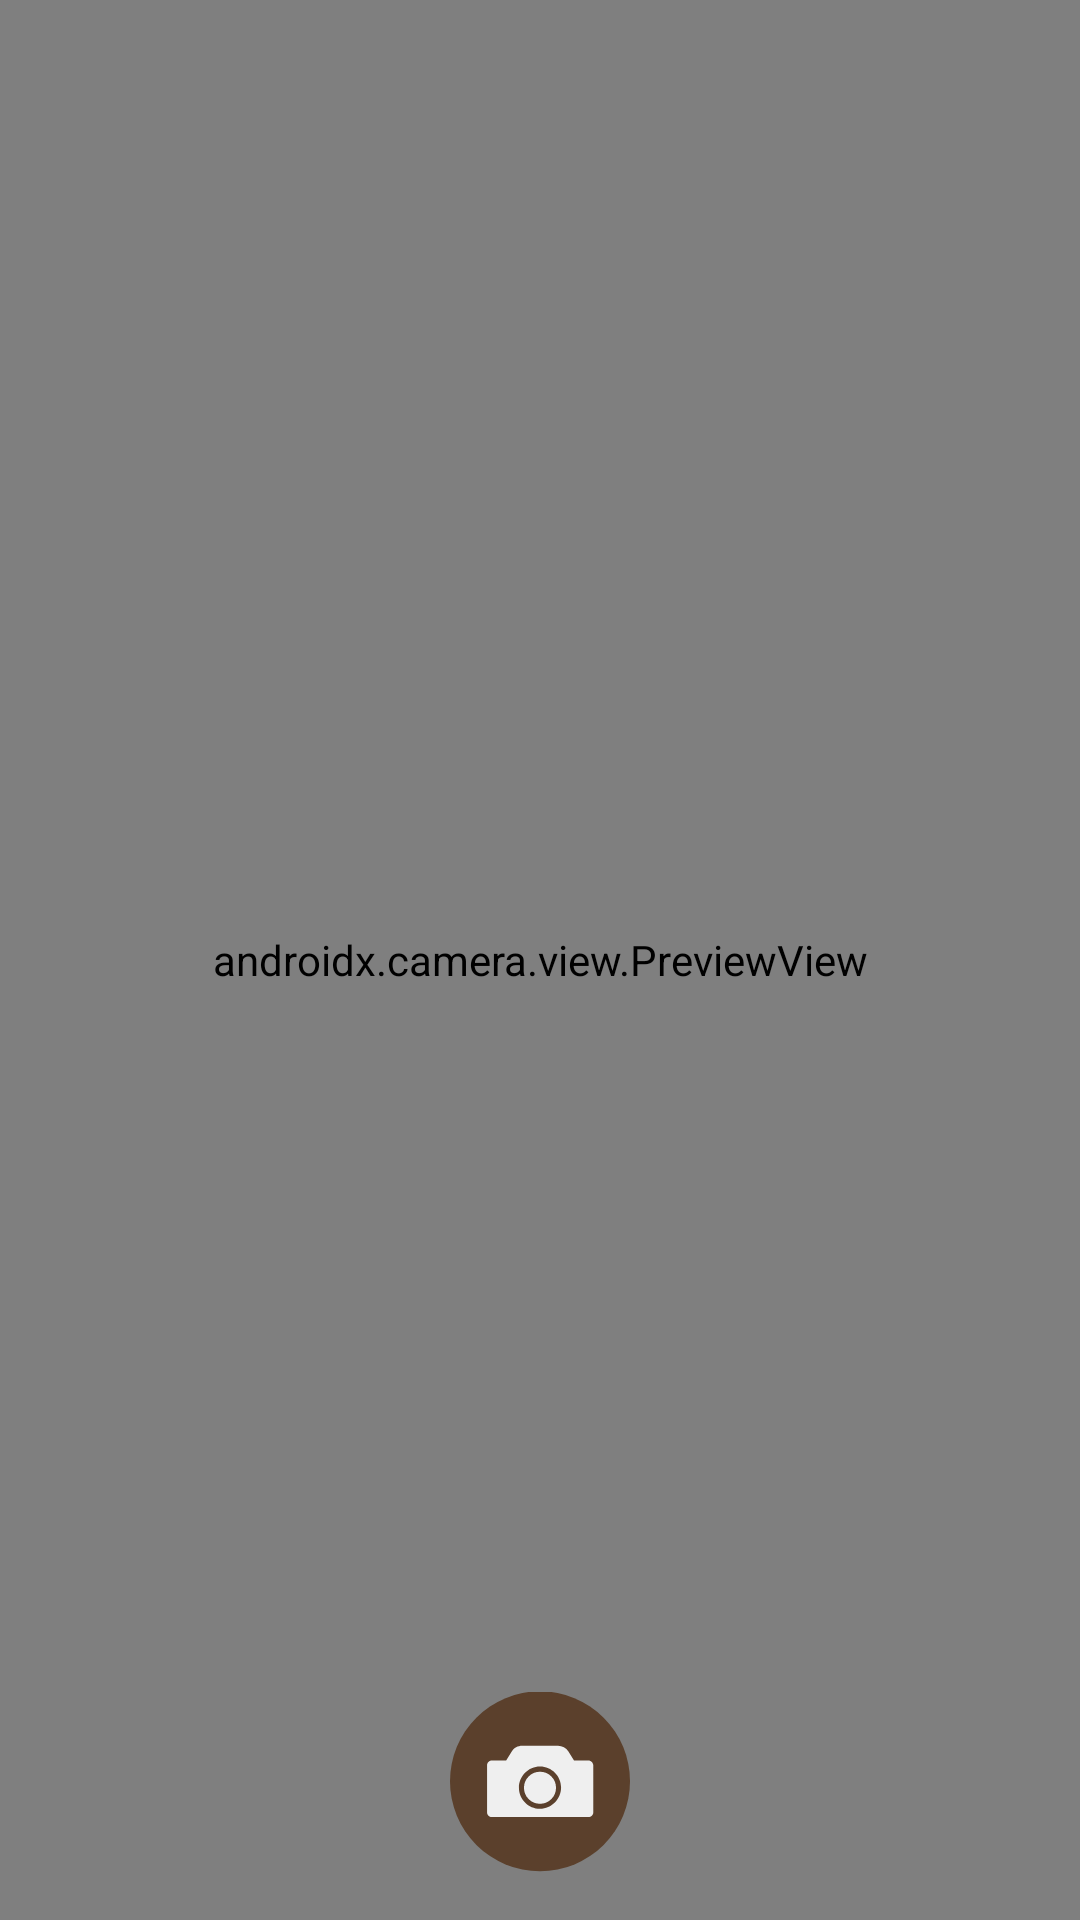

Screen size 1080px x 1920px. Icon name, then its box in pixels as rect(x1, y1, x2, y2):
capture: rect(450, 1692, 630, 1871)
